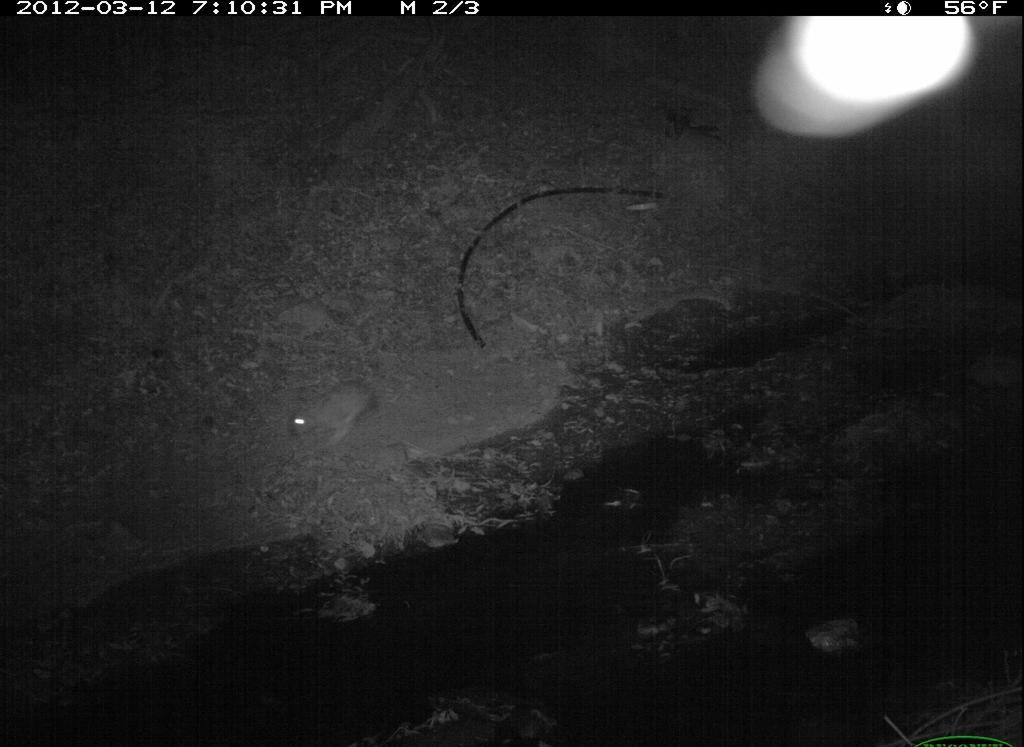rabbit: (278, 373, 393, 452)
